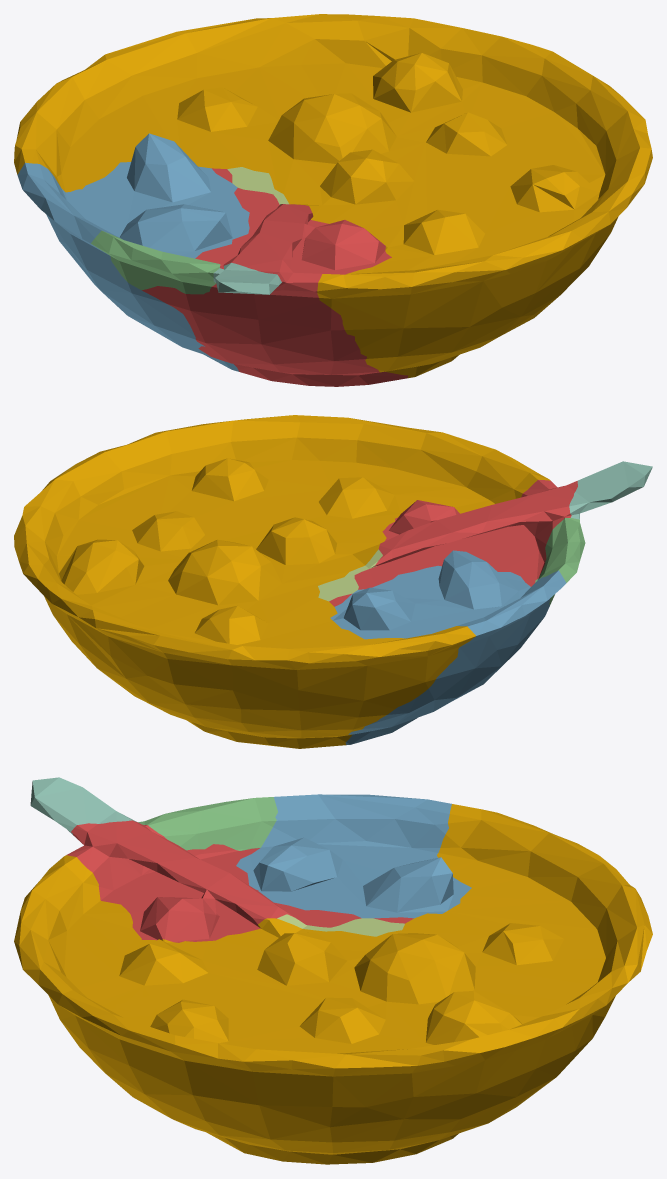
File: mode_16_6pcs.glb
3 renders of one model, top to bottom at view 1: azimuth 30°, elevation 25°; view 2: azimuth 150°, elevation 25°; view 3: azimuth 270°, elevation 25°, orthographic. The views are drawn at different scales.
Parts seen in each view (by area): view 1: piece_0.obj, piece_1.obj, piece_2.obj, piece_3.obj, piece_4.obj, piece_5.obj; view 2: piece_0.obj, piece_2.obj, piece_1.obj, piece_4.obj, piece_3.obj, piece_5.obj; view 3: piece_0.obj, piece_2.obj, piece_1.obj, piece_3.obj, piece_4.obj, piece_5.obj.
Boxes of the visible parts, <box> form: piece_0.obj: <box>14,14,652,378</box>; piece_1.obj: <box>142,168,407,386</box>; piece_2.obj: <box>17,133,249,371</box>; piece_3.obj: <box>91,230,220,294</box>; piece_4.obj: <box>213,262,281,294</box>; piece_5.obj: <box>227,167,288,204</box>; piece_0.obj: <box>14,415,550,748</box>; piece_2.obj: <box>330,550,566,744</box>; piece_1.obj: <box>329,479,577,606</box>; piece_4.obj: <box>569,461,652,519</box>; piece_3.obj: <box>535,517,585,604</box>; piece_5.obj: <box>318,549,382,601</box>; piece_0.obj: <box>14,804,652,1164</box>; piece_2.obj: <box>236,794,471,918</box>; piece_1.obj: <box>66,820,413,942</box>; piece_3.obj: <box>138,797,277,850</box>; piece_4.obj: <box>30,777,138,834</box>; piece_5.obj: <box>277,914,404,936</box>.
Size of the model in its own units: 1 by 0.3508 by 0.9972.
